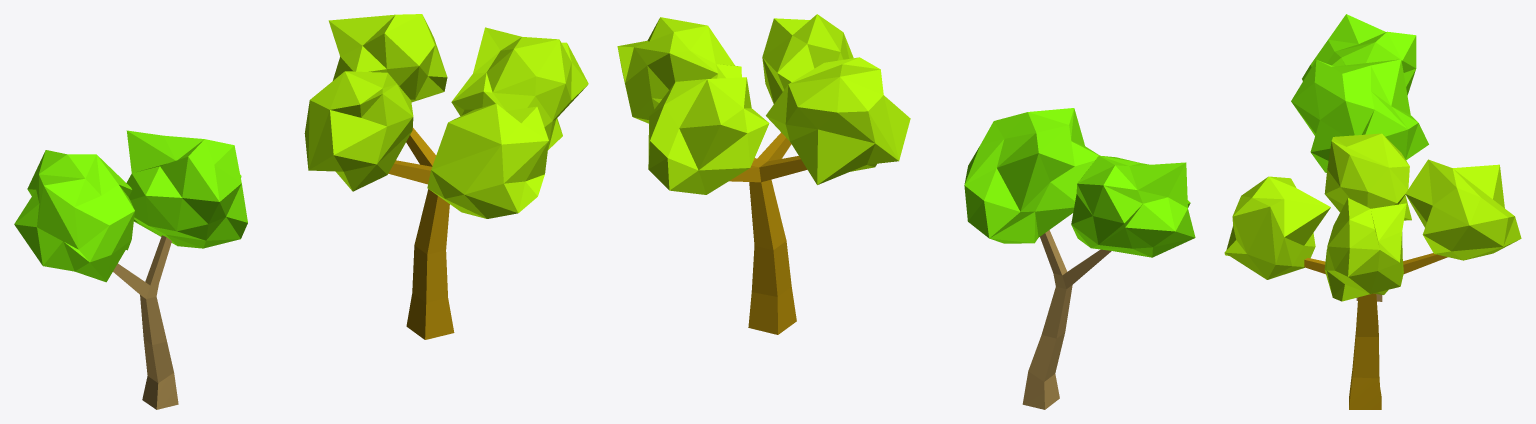
Rendered from tree.glb.
The picture shows the model from 3 angles, left to right: view 1: azimuth 30°, elevation 25°; view 2: azimuth 150°, elevation 25°; view 3: azimuth 270°, elevation 25°; orthographic projection. The views are drawn at different scales.
Parts seen in each view (by area): view 1: Tree_2, Tree_1; view 2: Tree_2, Tree_1; view 3: Tree_2, Tree_1.
Boxes of the visible parts, x1,y1,x2,y2 form: Tree_2: (304,14,588,339); Tree_1: (14,130,247,409); Tree_2: (617,14,910,334); Tree_1: (964,108,1195,409); Tree_2: (1224,133,1521,409); Tree_1: (1291,14,1428,301).
Bounding box in the file's own units: 68.43 × 33.48 × 36.04.
